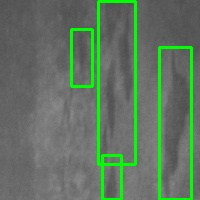inclusion: (98, 1, 135, 164), (159, 47, 191, 199), (71, 29, 92, 86), (102, 155, 121, 199)
